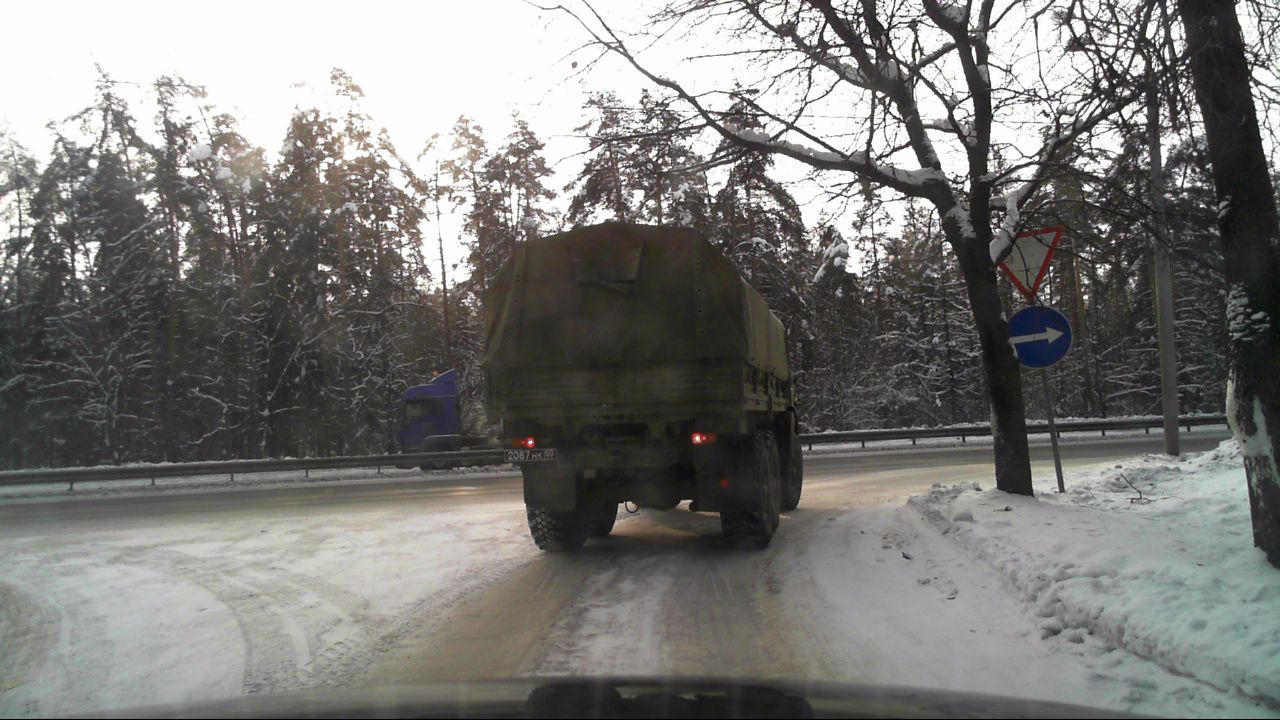Turn Right: (1005, 306, 1074, 370)
